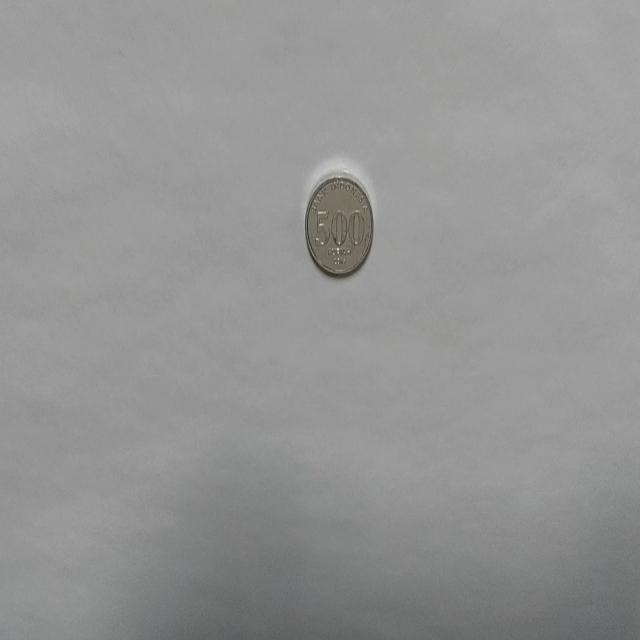lima ratus rupiah: (304, 170, 374, 278)
